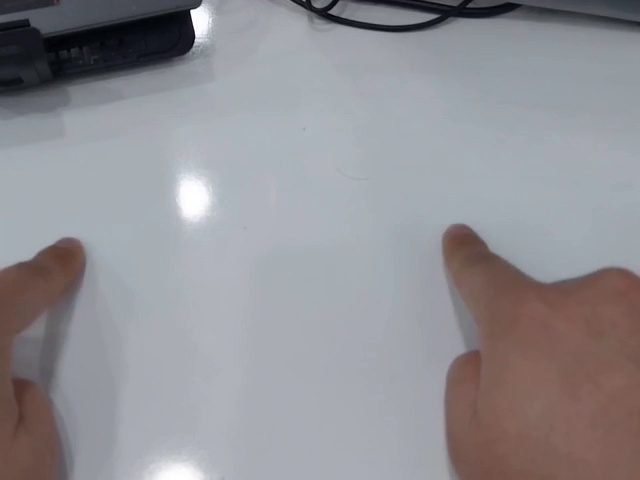fingers: (43, 236, 86, 285), (441, 221, 481, 264)
